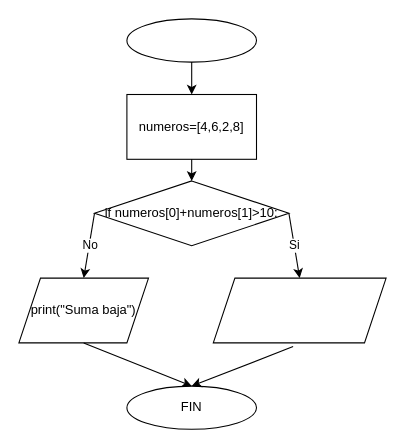
Some shapes in this 405 by 448 pixel diagram are drawn without their labels. Here are the shapes that lost their labels. From the top down, the centre of each, then its label:
the point at 191,40: INICIO
the point at 299,310: print("Suma alta")
